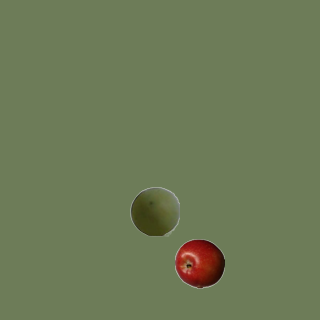Apple Braeburn: (174, 238, 224, 288)
Grape White 4: (129, 186, 179, 236)
